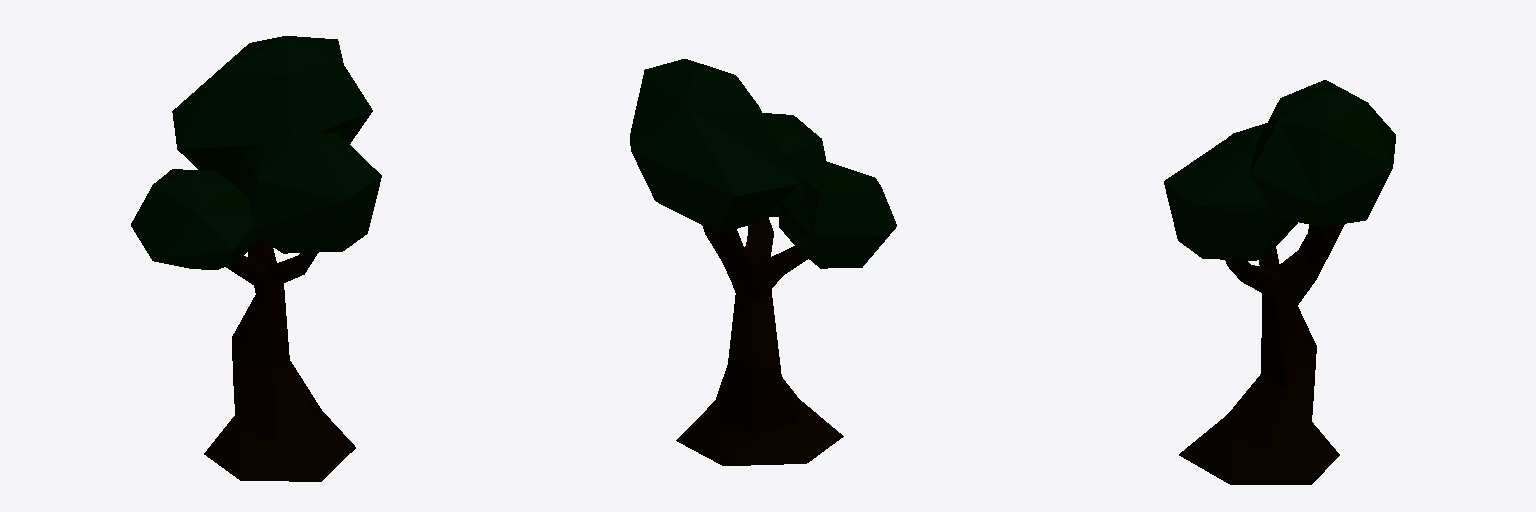
Rendered from OakTree_01.obj.
3 views of the same model, side by side, from view 1: azimuth 30°, elevation 25°; view 2: azimuth 150°, elevation 25°; view 3: azimuth 270°, elevation 25° (orthographic).
Visible parts, largest first — view 1: Sphere; view 2: Sphere; view 3: Sphere.
Boxes of the visible parts, <box> form: Sphere: <box>131,36,381,481</box>; Sphere: <box>630,59,896,465</box>; Sphere: <box>1164,80,1395,484</box>.
Size of the model in its own units: 6.18 by 9.64 by 5.3.